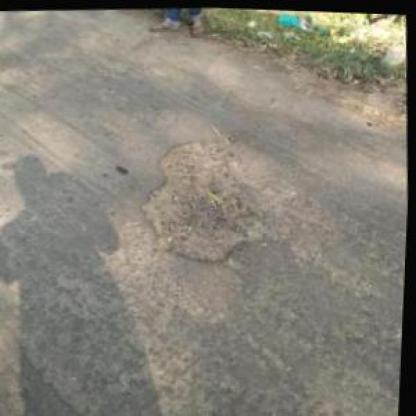pothole: (134, 128, 278, 269), (140, 103, 180, 130)
